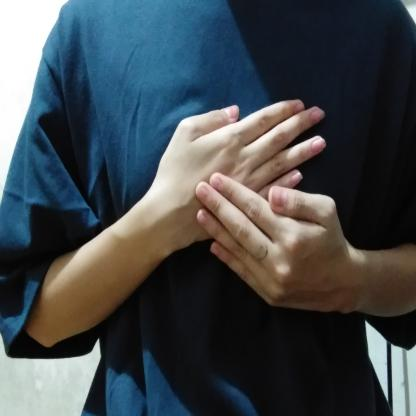thank you: (148, 89, 396, 326)
